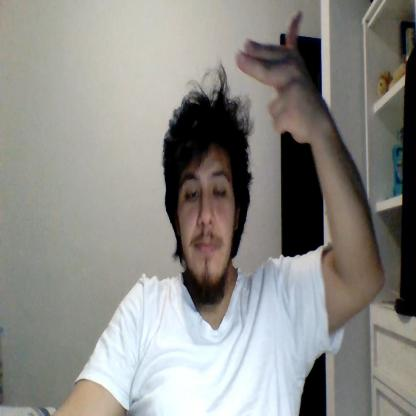H: (235, 10, 315, 144)
